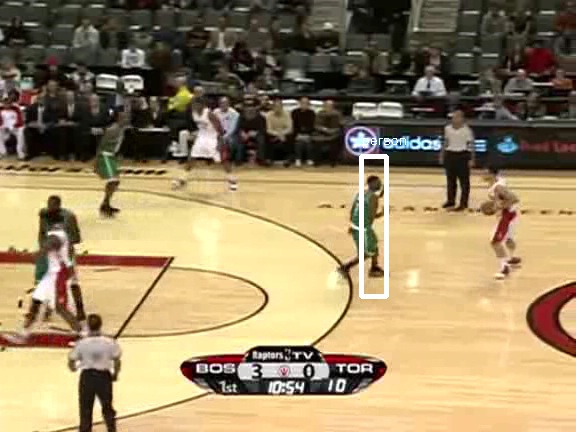person: (348, 182, 382, 263), (347, 182, 381, 263), (349, 182, 383, 263), (348, 181, 382, 262), (348, 183, 382, 264)
target_negative: (183, 158, 481, 339), (97, 181, 435, 259), (21, 53, 385, 93), (9, 148, 142, 217), (35, 278, 100, 340), (115, 218, 502, 225)
